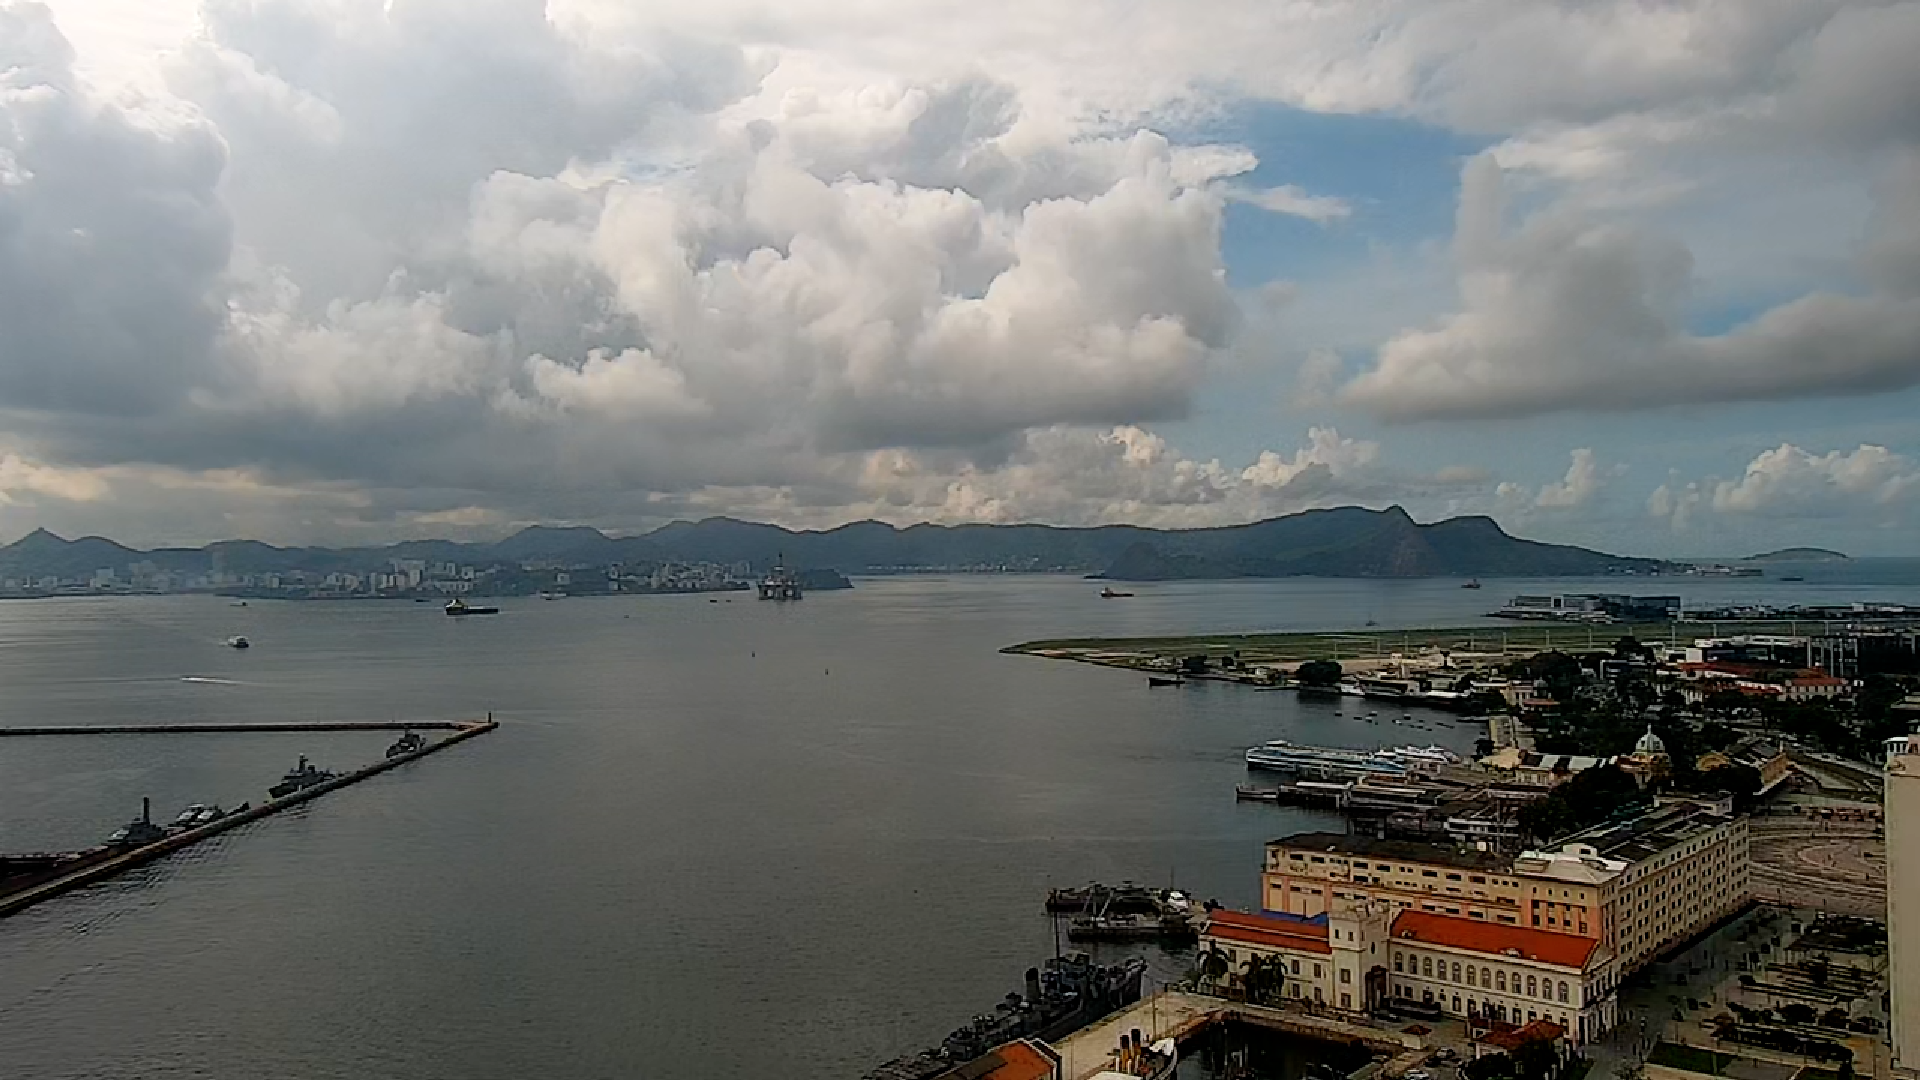Ship5: (436, 591, 504, 624)
